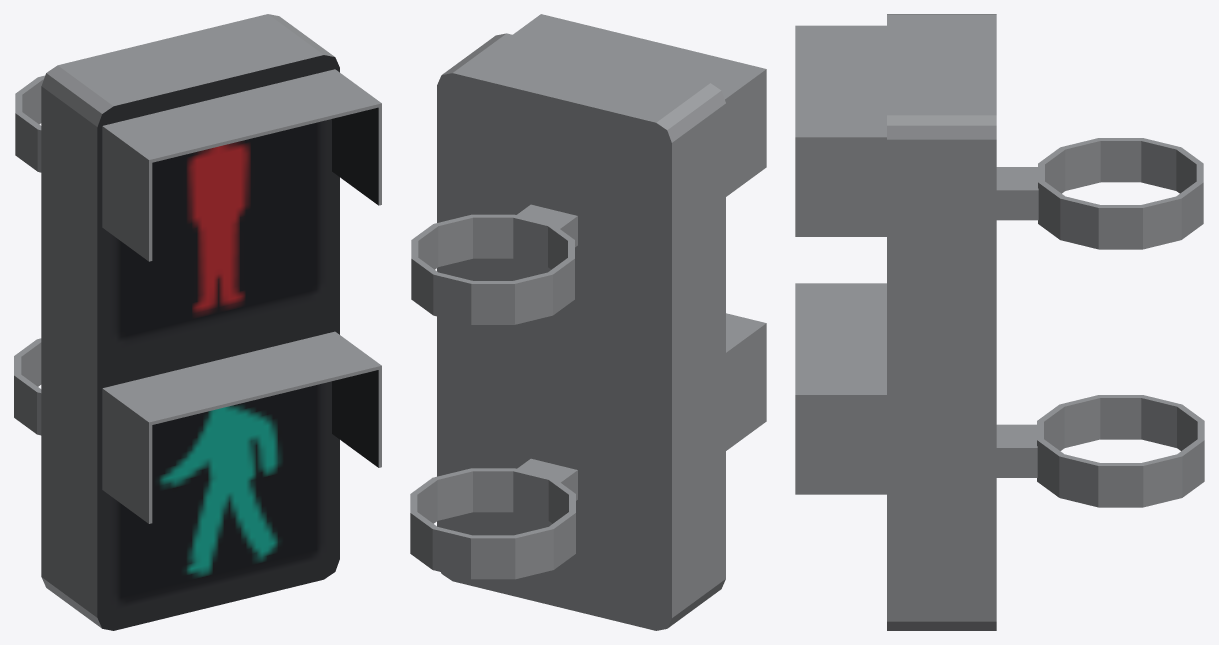
The model's file is SM_Street_PedSignal_Galv_01.fbx.
The picture shows the model from 3 angles, left to right: view 1: azimuth 30°, elevation 25°; view 2: azimuth 150°, elevation 25°; view 3: azimuth 270°, elevation 25°; orthographic projection. The views are drawn at different scales.
Visible parts, largest first — view 1: SM_Street_PedSignal_Galv_01; view 2: SM_Street_PedSignal_Galv_01; view 3: SM_Street_PedSignal_Galv_01.
Boxes of the visible parts, x1,y1,x2,y2 form: SM_Street_PedSignal_Galv_01: (14,14,381,630); SM_Street_PedSignal_Galv_01: (410,14,766,630); SM_Street_PedSignal_Galv_01: (795,14,1204,630).
Size of the model in its own units: 0.3 by 0.62 by 0.4469.
1 material, 1 textured.
